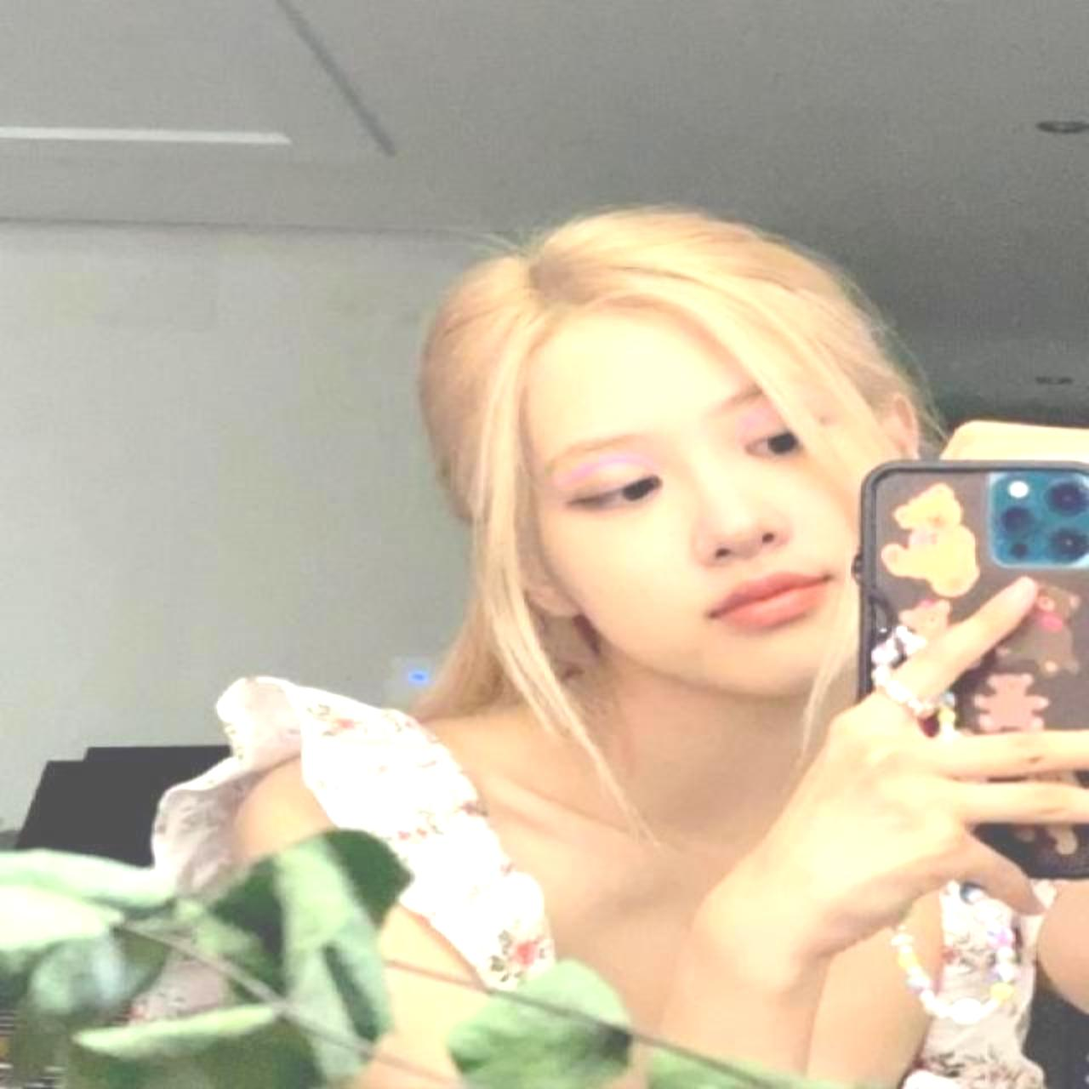phone: (849, 451, 1089, 885)
